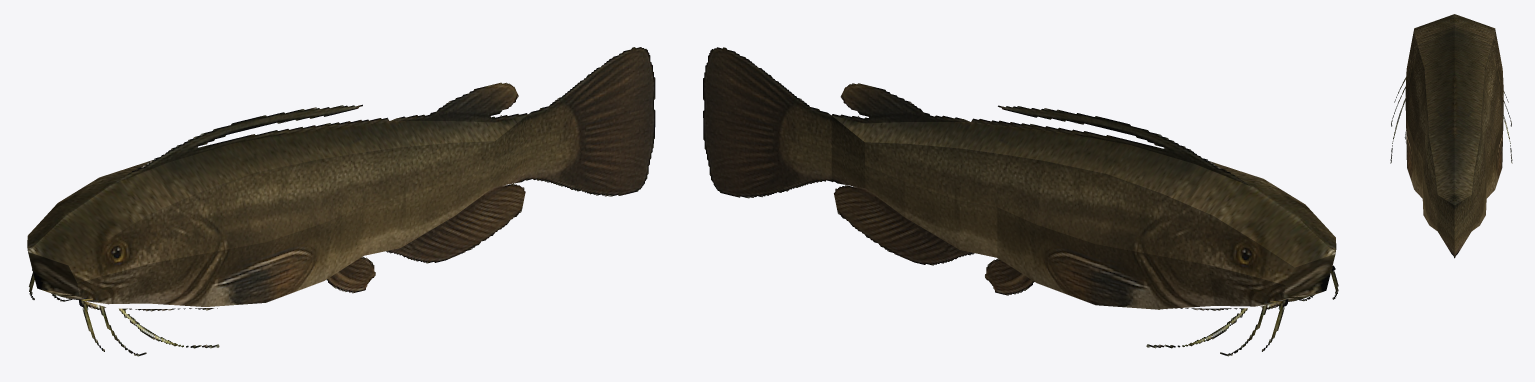
Rendered from Catfish.fbx.
3 renders of one model, left to right at view 1: azimuth 30°, elevation 25°; view 2: azimuth 150°, elevation 25°; view 3: azimuth 270°, elevation 25°, orthographic. The views are drawn at different scales.
Parts seen in each view (by area): view 1: Catfish; view 2: Catfish; view 3: Catfish.
Boxes of the visible parts, box(x1,y1,x2,y2) form: Catfish: box(27, 47, 655, 356); Catfish: box(703, 47, 1338, 356); Catfish: box(1390, 14, 1512, 258).
Size of the model in its own units: 134 by 42.15 by 31.03.
